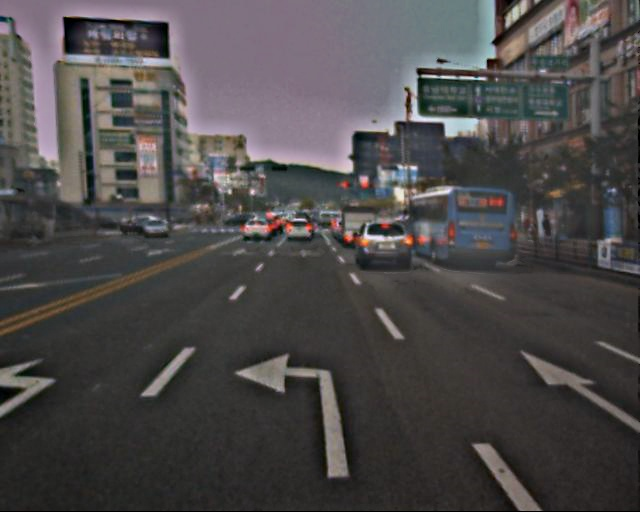person: (538, 211, 556, 254), (521, 216, 536, 242)
